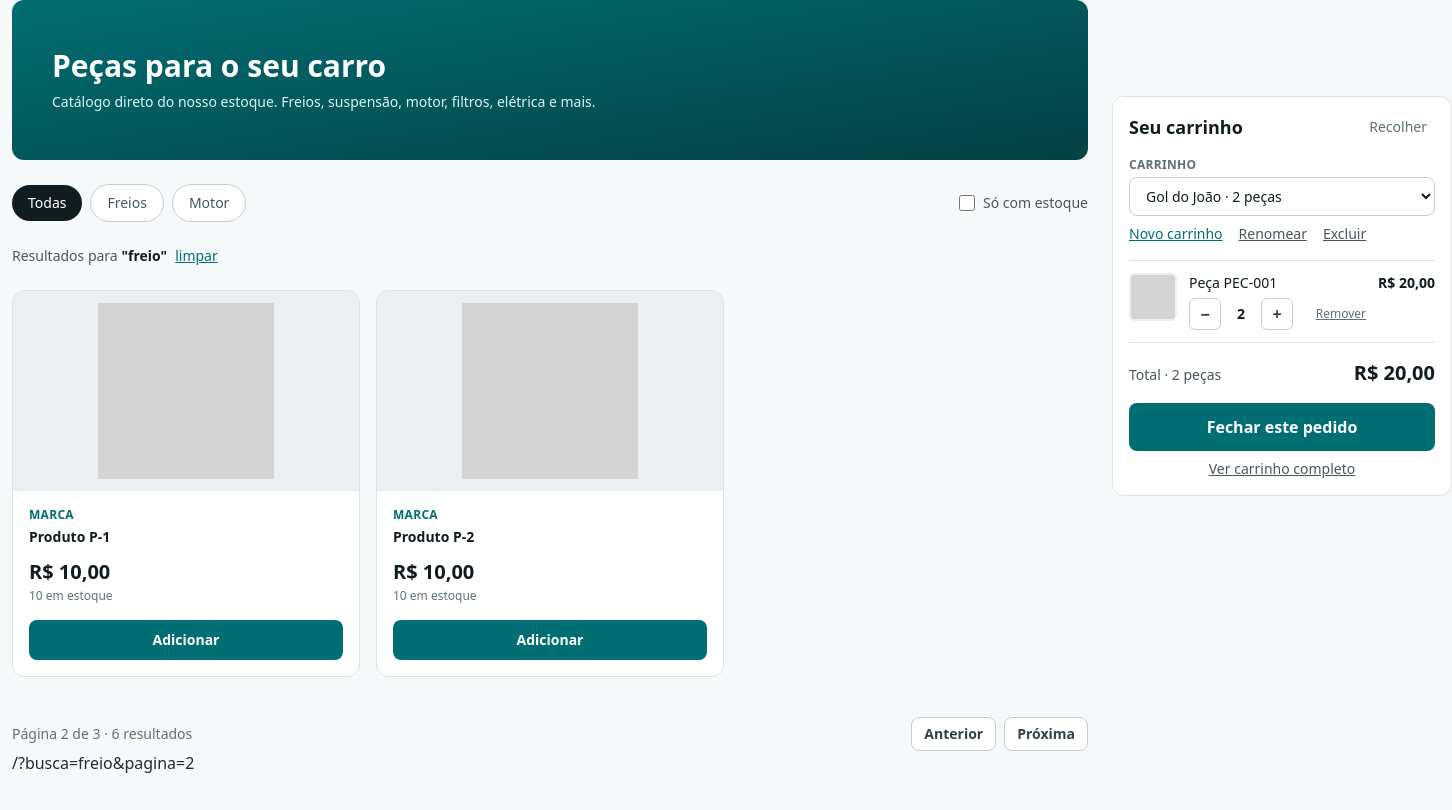
Test: KZN-325: mudar a busca ou o filtro volta para a primeira pagina › "Próxima" muda so a pagina e preserva o resto da busca
The width and height of the screenshot is (1452, 810).
Click the button "Próxima" at coordinates (1046, 734), box [1004,717,1088,751]
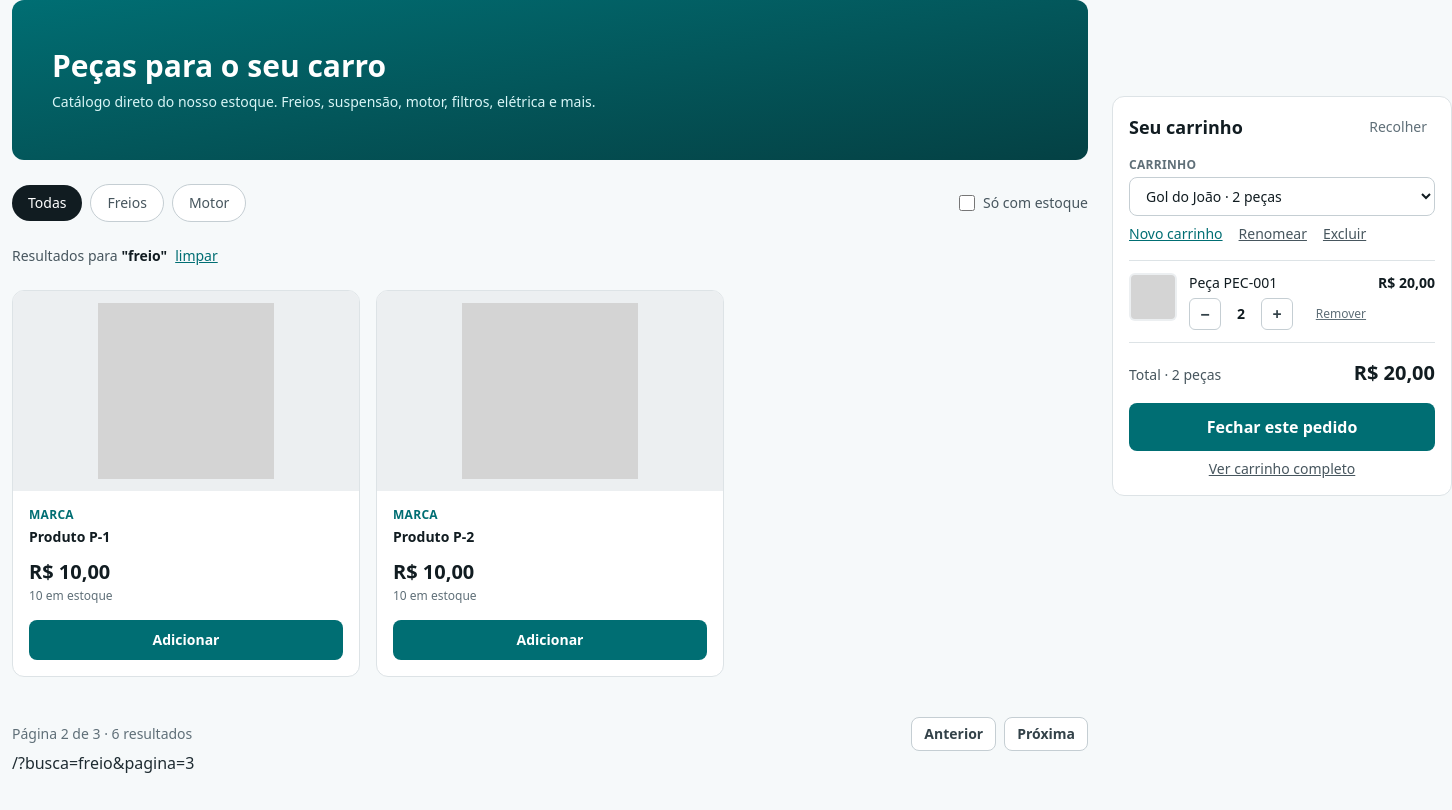
Result: the text with test id "url" reads "/?busca=freio&pagina=3" at [12,752,194,774]
